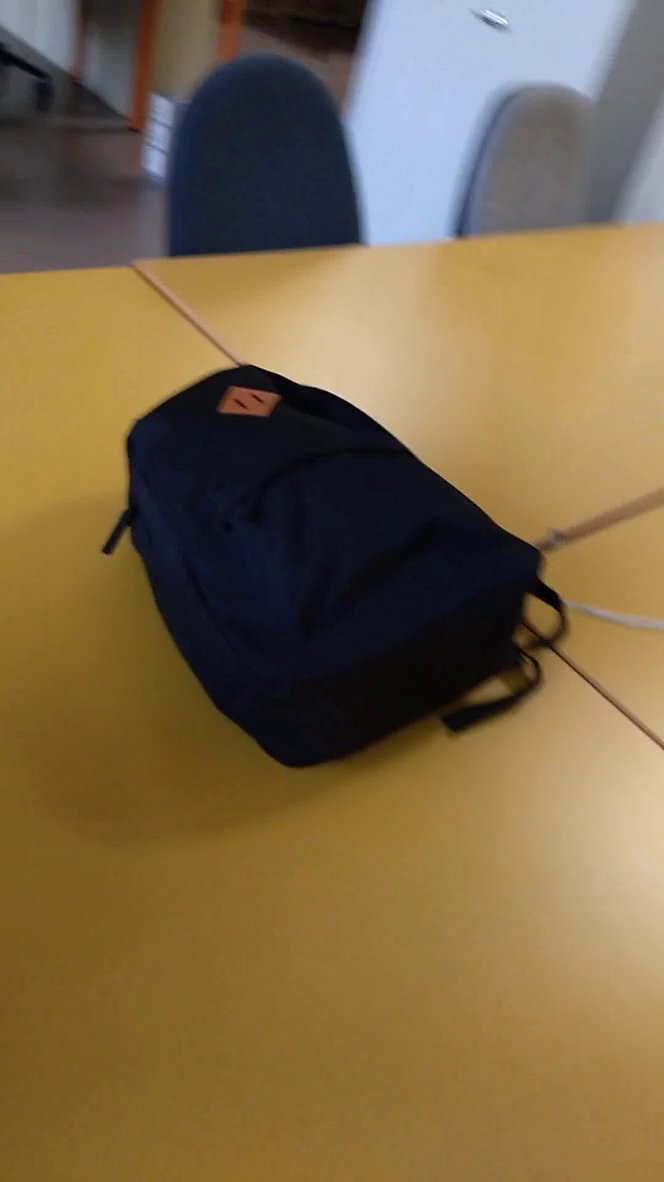bag: (97, 353, 579, 786)
chair: (143, 44, 381, 267), (446, 68, 610, 266)
